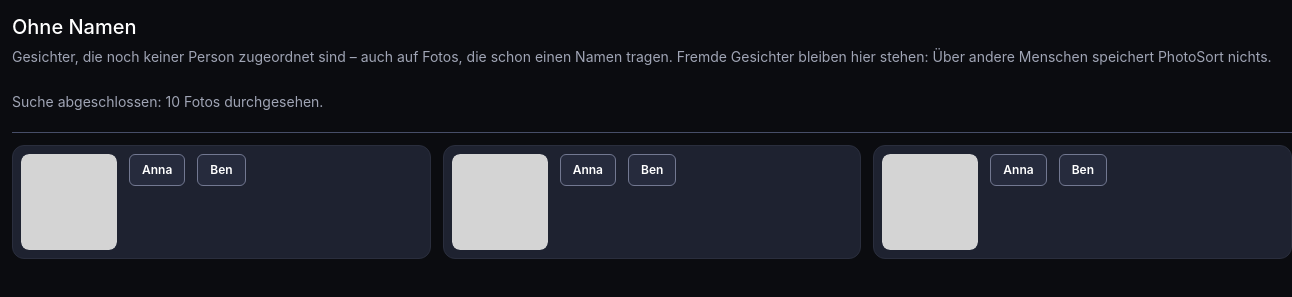
Test: UnnamedFacesGroup - Zuordnen › nennt an der Obergrenze den Satz, dass nur benannt und nicht gelernt wurde
Step 1. Click the button with aria-label "Zuordnen: Ben" → (222, 170), box [197,154,246,186]
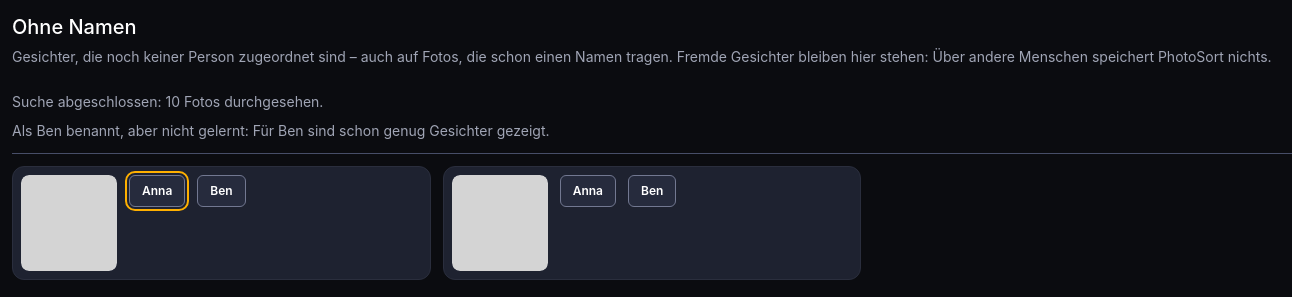
expect the message reads "Als Ben benannt, aber nicht gelernt: Für Ben sind schon genug Gesichter gezeigt.": met, box [12,122,550,139]
